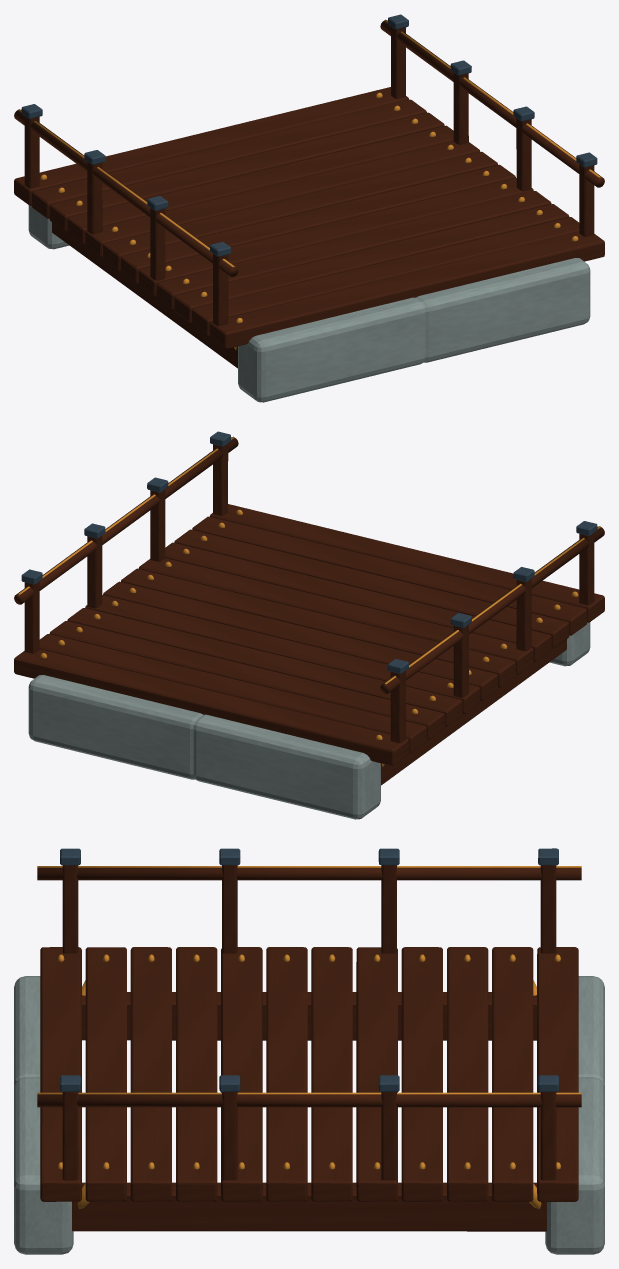
The model's file is SM_bridge_LOD1.fbx.
The picture shows the model from 3 angles, top to bottom: view 1: azimuth 30°, elevation 25°; view 2: azimuth 150°, elevation 25°; view 3: azimuth 270°, elevation 25°; orthographic projection. The views are drawn at different scales.
Visible parts, largest first — view 1: SM_bridge_LOD1; view 2: SM_bridge_LOD1; view 3: SM_bridge_LOD1.
Boxes of the visible parts, x1,y1,x2,y2 form: SM_bridge_LOD1: (14,14,604,402); SM_bridge_LOD1: (14,431,604,819); SM_bridge_LOD1: (14,848,604,1254).
Bounding box in the file's own units: 4.2 × 4.45 × 1.57.
